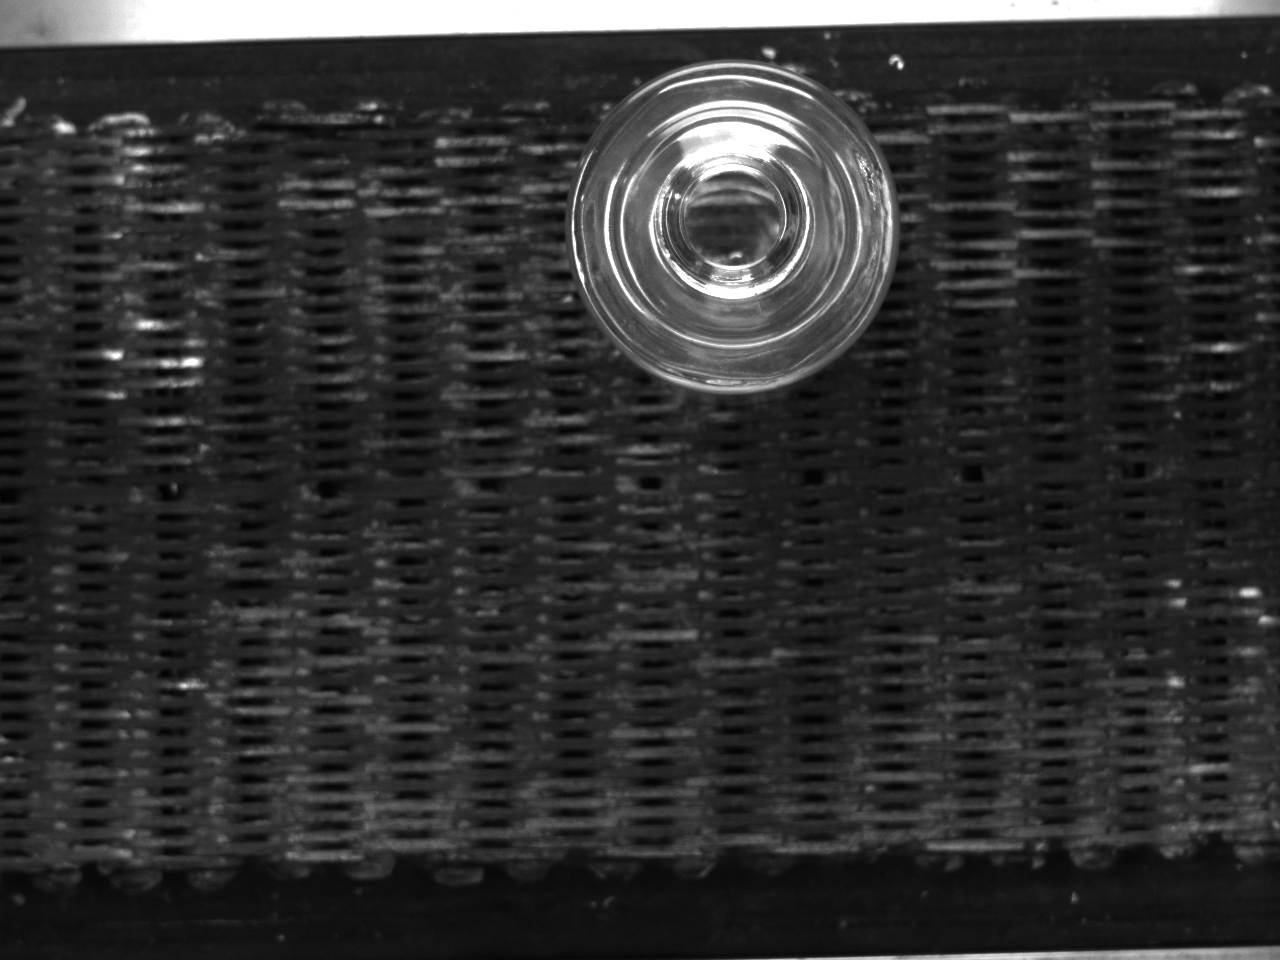bottleneck: (652, 142, 814, 301)
